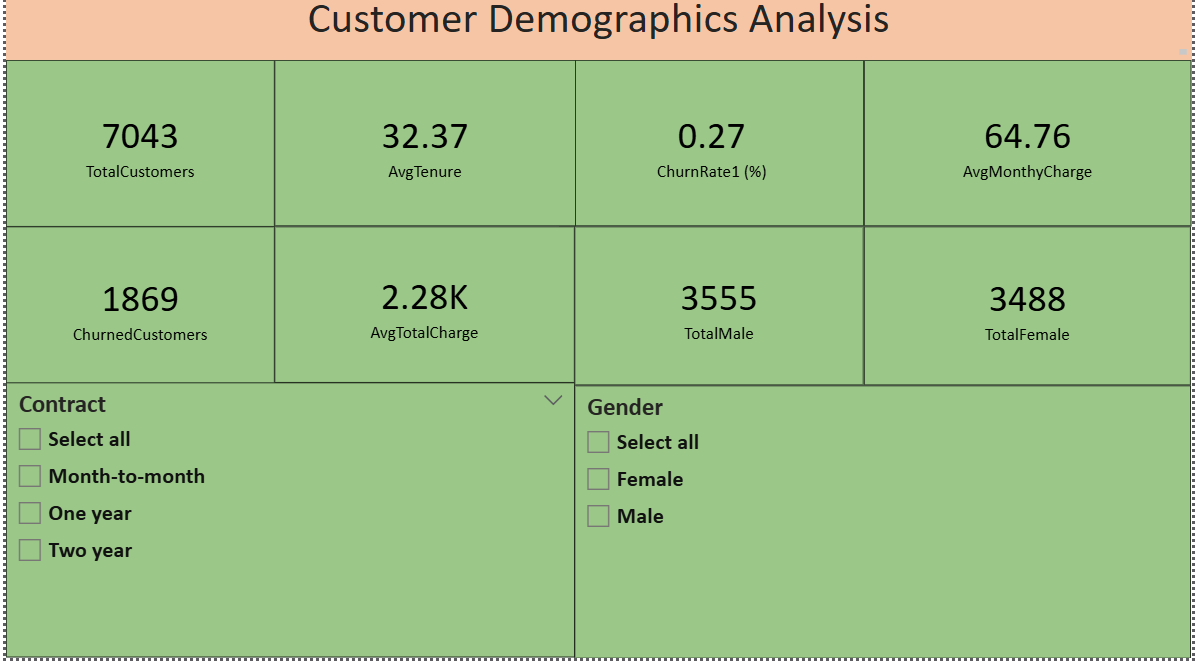

The dashboard page shown, as its layout file describes it:
{"tool":"powerbi","page":{"name":"Page 2","canvas":[1280,720],"ordinal":1},"visuals":[{"type":"card","fields":{"Values":["Customer Churn Data.TotalCustomers"]},"box":[0,74.5,289.8,179.7],"z":0},{"type":"card","fields":{"Values":["Customer Churn Data.ChurnedCustomers"]},"box":[0,254.2,289.8,173.3],"z":1000},{"type":"card","fields":{"Values":["Customer Churn Data.ChurnRate1 (%)"]},"box":[597.2,73.7,328.8,179.5],"z":2000},{"type":"card","fields":{"Values":["Customer Churn Data.AvgMonthyCharge"]},"box":[926,73.7,353.4,179.5],"z":3000},{"type":"card","fields":{"Values":["Customer Churn Data.AvgTenure"]},"box":[289.1,73.7,325,179.5],"z":4000},{"type":"slicer","fields":{"Values":["Customer Churn Data.gender"]},"box":[614.2,425.2,665.2,294.8],"z":5000},{"type":"slicer","fields":{"Values":["Customer Churn Data.Contract"]},"box":[0,423.3,614.2,296.7],"z":6000},{"type":"card","fields":{"Values":["Customer Churn Data.AvgTotalCharge"]},"box":[289.8,254.2,323.8,168.4],"z":7000},{"type":"card","fields":{"Values":["Customer Churn Data.TotalMale"]},"box":[614,254,312,171],"z":8000},{"type":"card","fields":{"Values":["Customer Churn Data.TotalFemale"]},"box":[926.2,254.2,353,171.6],"z":9000},{"type":"textbox","title":"Customer Demographics Analysis","box":[0,0,1279.4,73.7],"z":10000}]}

Visuals, with their boxes in screenshot pixels (x1, y1, x2, y2), scaled from the page's 1280x720 canvas onto the 1196x664 screenshot:
card - Customer Churn Data.TotalCustomers: {"x1": 0, "y1": 69, "x2": 271, "y2": 234}
card - Customer Churn Data.ChurnedCustomers: {"x1": 0, "y1": 234, "x2": 271, "y2": 394}
card - Customer Churn Data.ChurnRate1 (%): {"x1": 558, "y1": 68, "x2": 865, "y2": 234}
card - Customer Churn Data.AvgMonthyCharge: {"x1": 865, "y1": 68, "x2": 1195, "y2": 234}
card - Customer Churn Data.AvgTenure: {"x1": 270, "y1": 68, "x2": 574, "y2": 234}
slicer - Customer Churn Data.gender: {"x1": 574, "y1": 392, "x2": 1195, "y2": 663}
slicer - Customer Churn Data.Contract: {"x1": 0, "y1": 390, "x2": 574, "y2": 663}
card - Customer Churn Data.AvgTotalCharge: {"x1": 271, "y1": 234, "x2": 573, "y2": 390}
card - Customer Churn Data.TotalMale: {"x1": 574, "y1": 234, "x2": 865, "y2": 392}
card - Customer Churn Data.TotalFemale: {"x1": 865, "y1": 234, "x2": 1195, "y2": 393}
"Customer Demographics Analysis" textbox: {"x1": 0, "y1": 0, "x2": 1195, "y2": 68}
